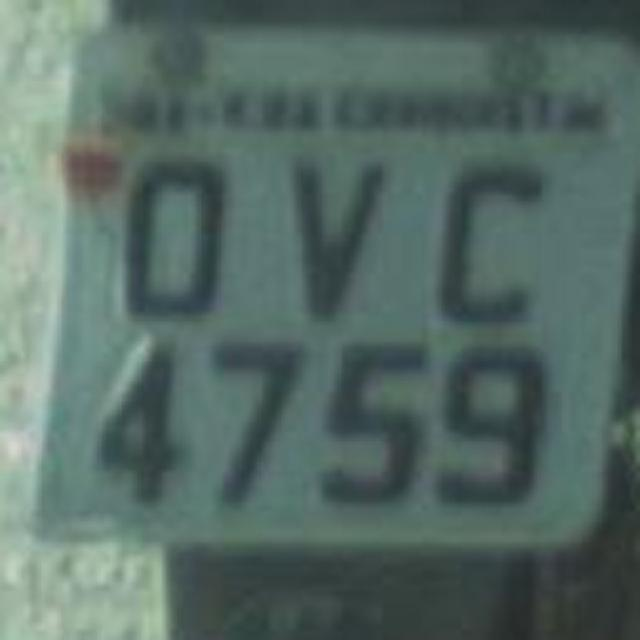4: (72, 312, 212, 528)
5: (296, 324, 452, 516)
7: (176, 320, 324, 528)
9: (416, 311, 576, 524)
C: (420, 148, 555, 320)
O: (108, 144, 240, 331)
V: (264, 136, 396, 332)
